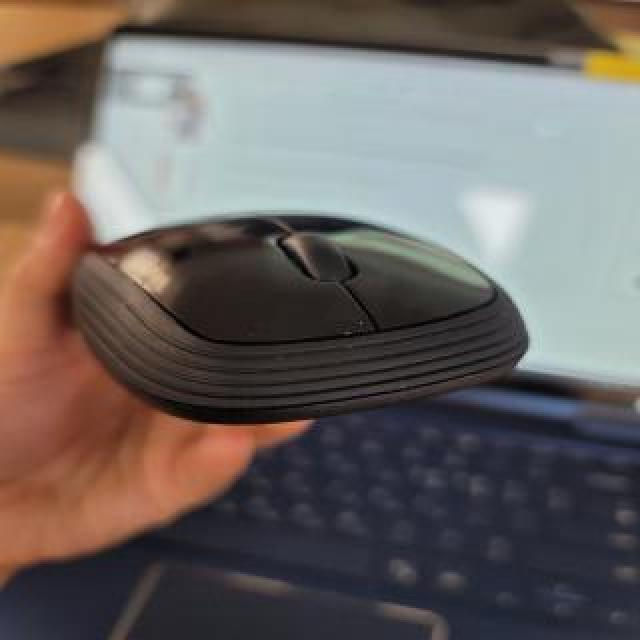laptop_computer: (60, 18, 640, 640)
mouse: (86, 219, 526, 441)
